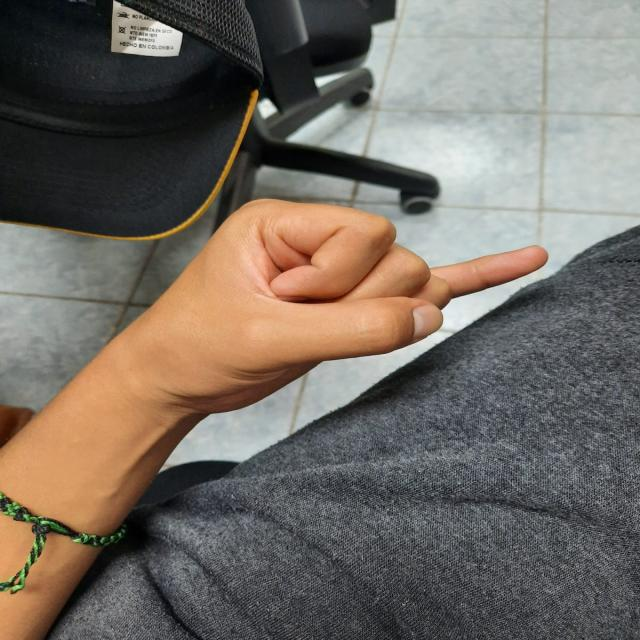Z: (76, 188, 569, 456)
